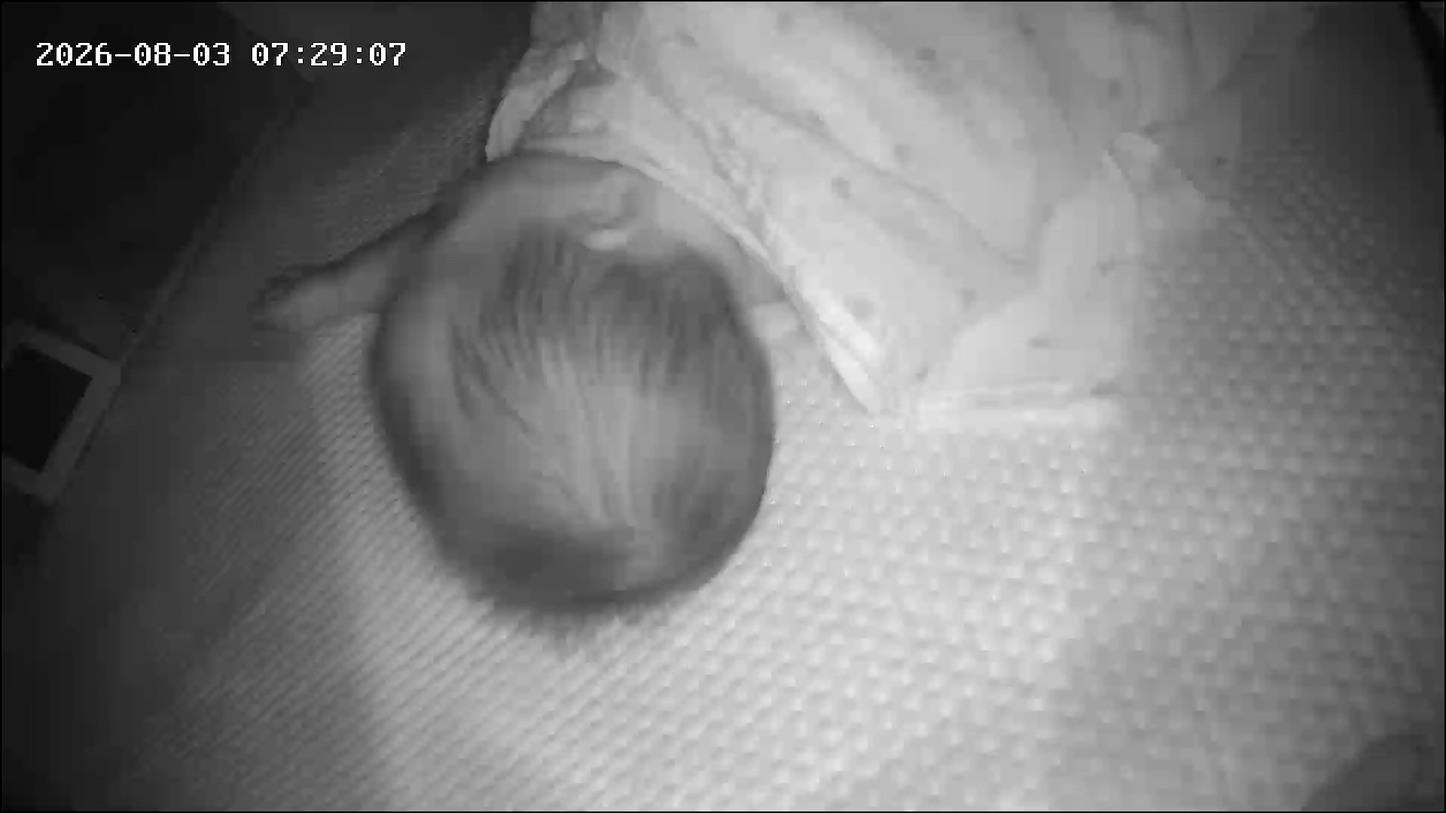baby: (0, 1, 802, 659)
baby_face: (359, 105, 803, 639)
